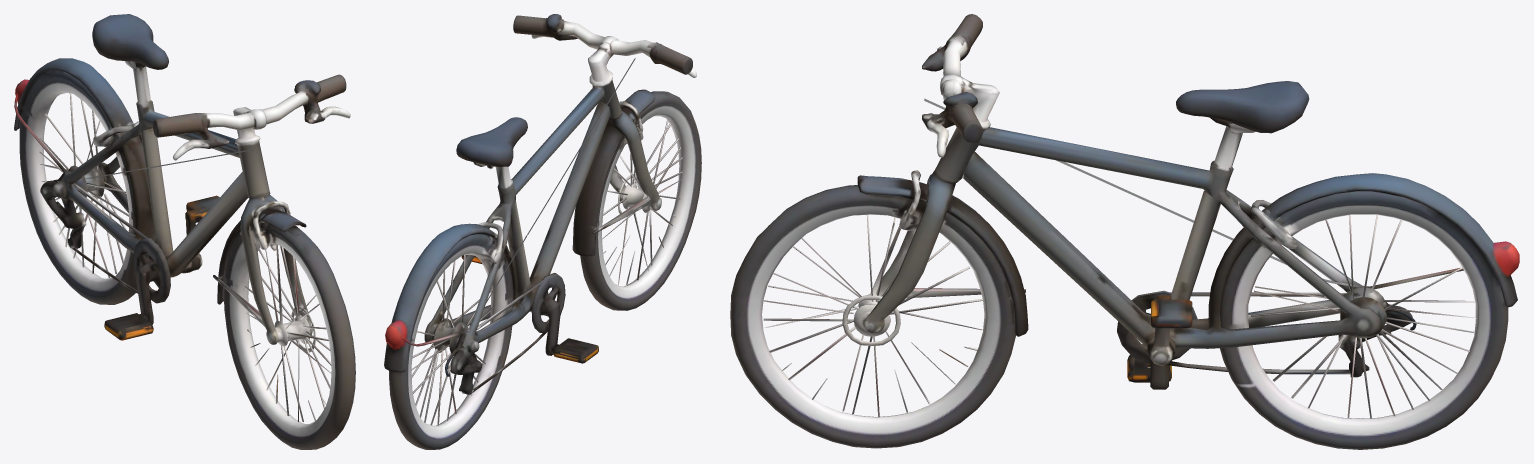
Rendered from Vehicles__bycicle_everyday_realistic_style_a51f2edf_v4.cluster.glb.
3 renders of one model, left to right at view 1: azimuth 30°, elevation 25°; view 2: azimuth 150°, elevation 25°; view 3: azimuth 270°, elevation 25°, orthographic. The views are drawn at different scales.
Visible parts, largest first — view 1: mesh_input; view 2: mesh_input; view 3: mesh_input.
Part boxes in pixels (x1,y1,x2,y2): mesh_input: (14,14,355,449); mesh_input: (384,14,701,449); mesh_input: (730,14,1519,449).
Size of the model in its own units: 0.6289 by 1.03 by 1.9.
1 material, 1 textured.
